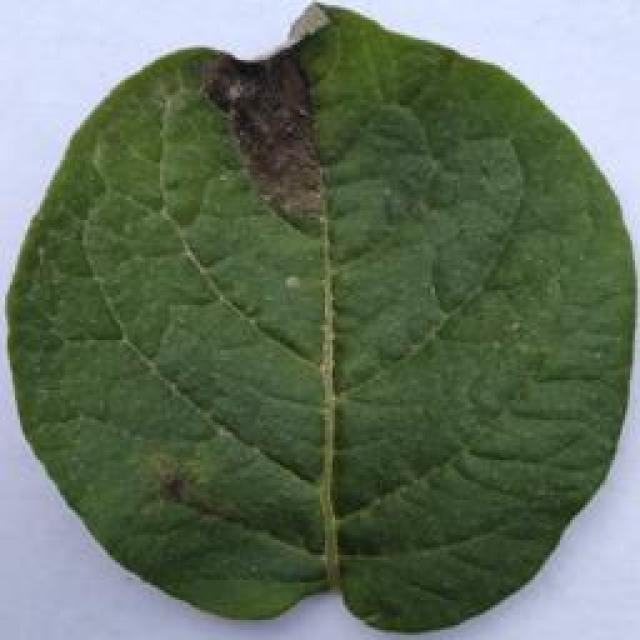Potato_Late_Blight: (0, 15, 630, 640)
